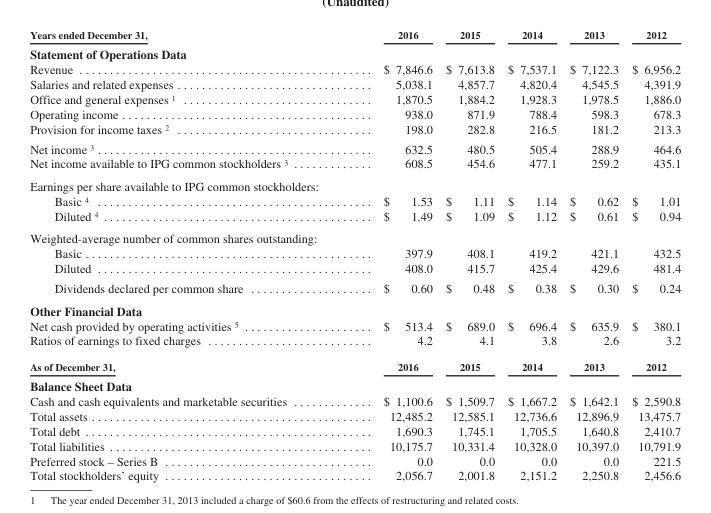table: (29, 28, 680, 482)
table column: (29, 28, 335, 482), (335, 28, 438, 482), (438, 28, 500, 482), (500, 28, 562, 482), (562, 28, 624, 482), (624, 28, 680, 482)
table column header: (29, 28, 680, 43)
table projected row header: (29, 174, 680, 193), (29, 226, 680, 245), (29, 43, 680, 61), (29, 299, 680, 317), (29, 375, 680, 393)
table row: (29, 277, 680, 299), (29, 353, 680, 375), (29, 332, 680, 353), (29, 155, 680, 174), (29, 174, 680, 193), (29, 226, 680, 245), (29, 43, 680, 61), (29, 120, 680, 138), (29, 208, 680, 226), (29, 299, 680, 317), (29, 375, 680, 393), (29, 138, 680, 155), (29, 260, 680, 277), (29, 28, 680, 43), (29, 61, 680, 76), (29, 76, 680, 91), (29, 91, 680, 106), (29, 193, 680, 208), (29, 245, 680, 260), (29, 317, 680, 332), (29, 393, 680, 408), (29, 408, 680, 423), (29, 423, 680, 438), (29, 452, 680, 467), (29, 467, 680, 482), (29, 106, 680, 120), (29, 438, 680, 452)
